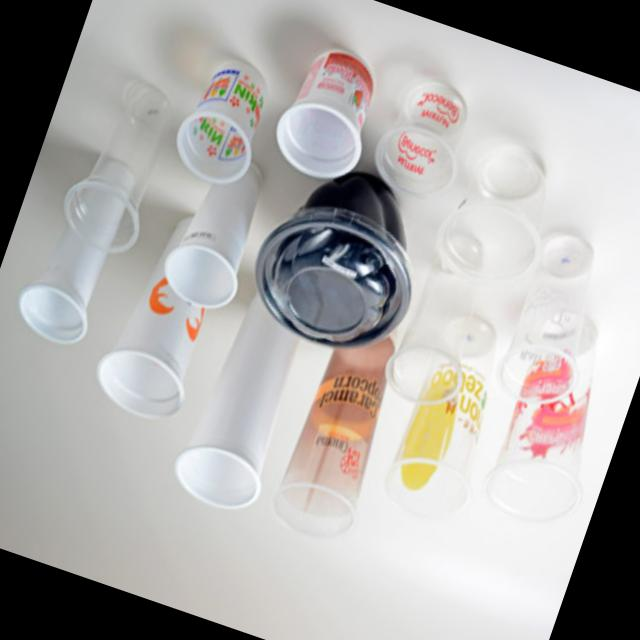GelasPlastik: (468, 306, 636, 542), (165, 278, 322, 521), (374, 306, 526, 540), (267, 326, 416, 560), (90, 206, 238, 430), (10, 140, 144, 357), (56, 68, 183, 258), (158, 156, 280, 320)
